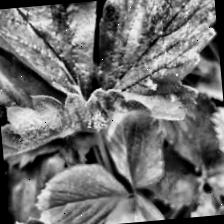Powdery Mildew Leaf: (83, 0, 224, 127), (0, 31, 114, 172), (0, 1, 105, 107)
